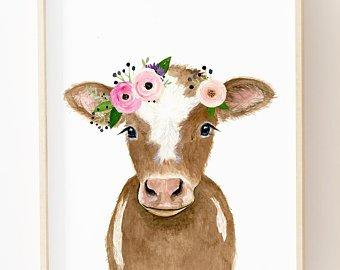muzzles: (135, 174, 196, 221)
